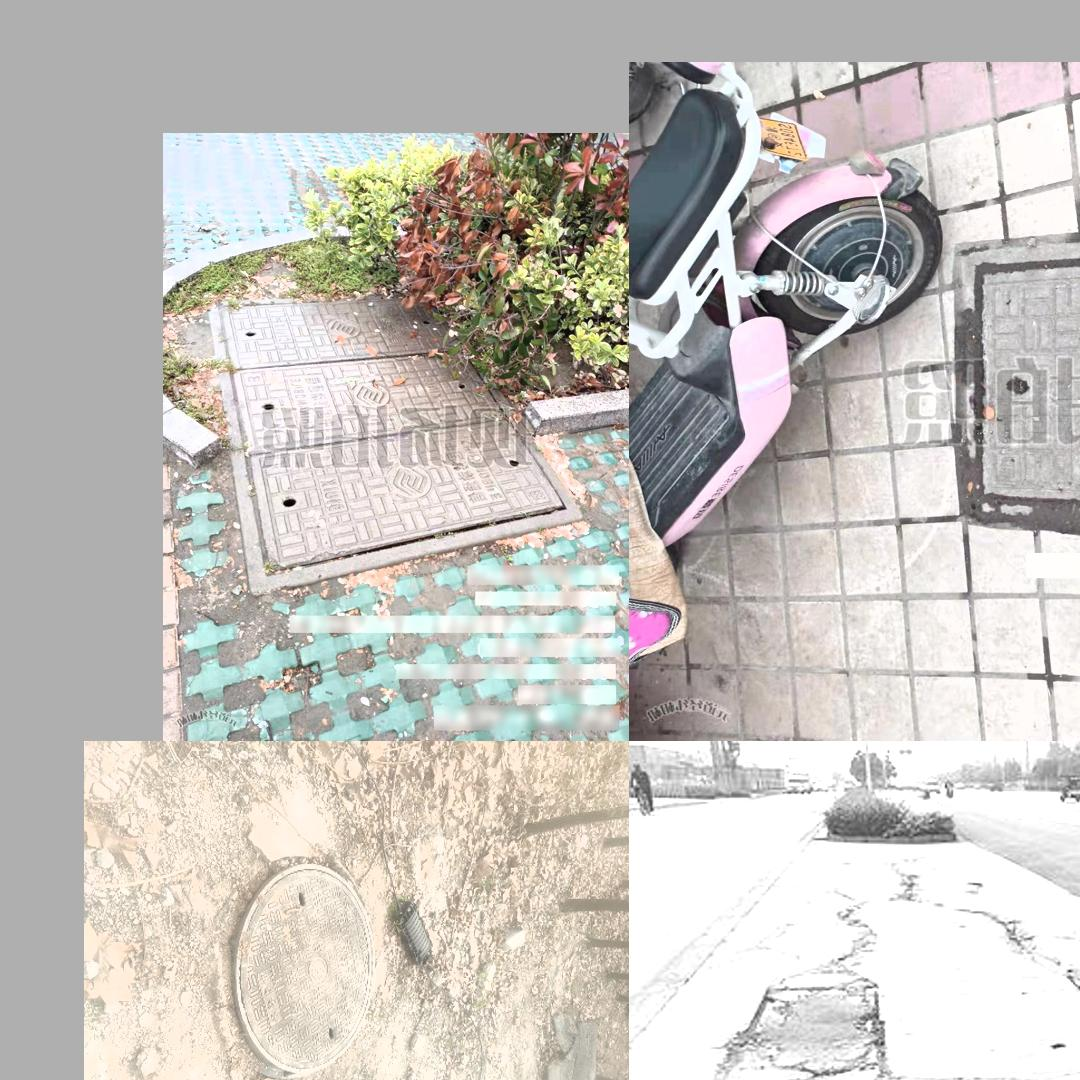good: (207, 298, 583, 592), (959, 216, 1080, 532), (232, 862, 374, 1072), (1068, 1073, 1080, 1080)
